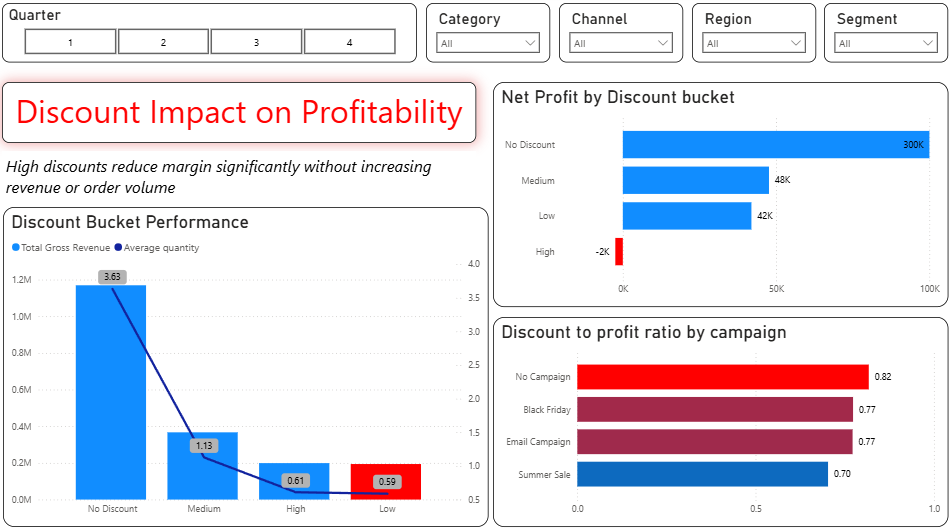

What the dashboard file says about the page in this screenshot:
{"tool":"powerbi","page":{"name":"Discount Analysis","canvas":[1280,720],"ordinal":2},"visuals":[{"type":"textbox","box":[10.1,115.9,629.9,80.6],"z":0},{"type":"clusteredBarChart","title":"Discount to profit ratio by campaign","fields":{"Y":["fact_order_items.Discount_to_profit_ratio"],"Category":["fact_order_items.campaign_name"]},"box":[663.5,428.3,604.7,278.8],"z":1000},{"type":"lineClusteredColumnComboChart","title":"Discount Bucket Performance","fields":{"Category":["fact_order_items.Discount bucket"],"Y":["fact_order_items.Total Gross Revenue"],"Y2":["fact_order_items.Average quantity"]},"box":[11.8,282.2,645,425],"z":2000},{"type":"clusteredBarChart","fields":{"Category":["fact_order_items.Discount bucket"],"Y":["fact_order_items.Net Profit"]},"box":[663.5,115.9,604.7,299],"z":3000},{"type":"slicer","fields":{"Values":["fact_order_items.channel"]},"box":[750.1,11.1,165,79.4],"z":4000},{"type":"slicer","fields":{"Values":["fact_order_items.region"]},"box":[926.6,11.1,165,79.4],"z":5000},{"type":"slicer","fields":{"Values":["fact_order_items.segment"]},"box":[1103.2,11.1,165,79.4],"z":6000},{"type":"slicer","title":"Quarter","fields":{"Values":["dim_dates.quarter"]},"box":[11.1,11.1,550.8,79.4],"z":7000},{"type":"slicer","fields":{"Values":["fact_order_items.category"]},"box":[573.5,11.1,165.1,79.4],"z":8000},{"type":"textbox","box":[10.1,208.3,629.9,73.9],"z":8001}]}

Visuals, with their boxes in screenshot pixels (x1, y1, x2, y2), scaled from the page's 1280x720 canvas onto the 951x528 screenshot:
textbox: x1=8, y1=85, x2=476, y2=144
"Discount to profit ratio by campaign" clusteredBarChart: x1=493, y1=314, x2=942, y2=519
"Discount Bucket Performance" lineClusteredColumnComboChart: x1=9, y1=207, x2=488, y2=519
clusteredBarChart - fact_order_items.Discount bucket x fact_order_items.Net Profit: x1=493, y1=85, x2=942, y2=304
slicer - fact_order_items.channel: x1=557, y1=8, x2=680, y2=66
slicer - fact_order_items.region: x1=688, y1=8, x2=811, y2=66
slicer - fact_order_items.segment: x1=820, y1=8, x2=942, y2=66
"Quarter" slicer: x1=8, y1=8, x2=417, y2=66
slicer - fact_order_items.category: x1=426, y1=8, x2=549, y2=66
textbox: x1=8, y1=153, x2=476, y2=207
